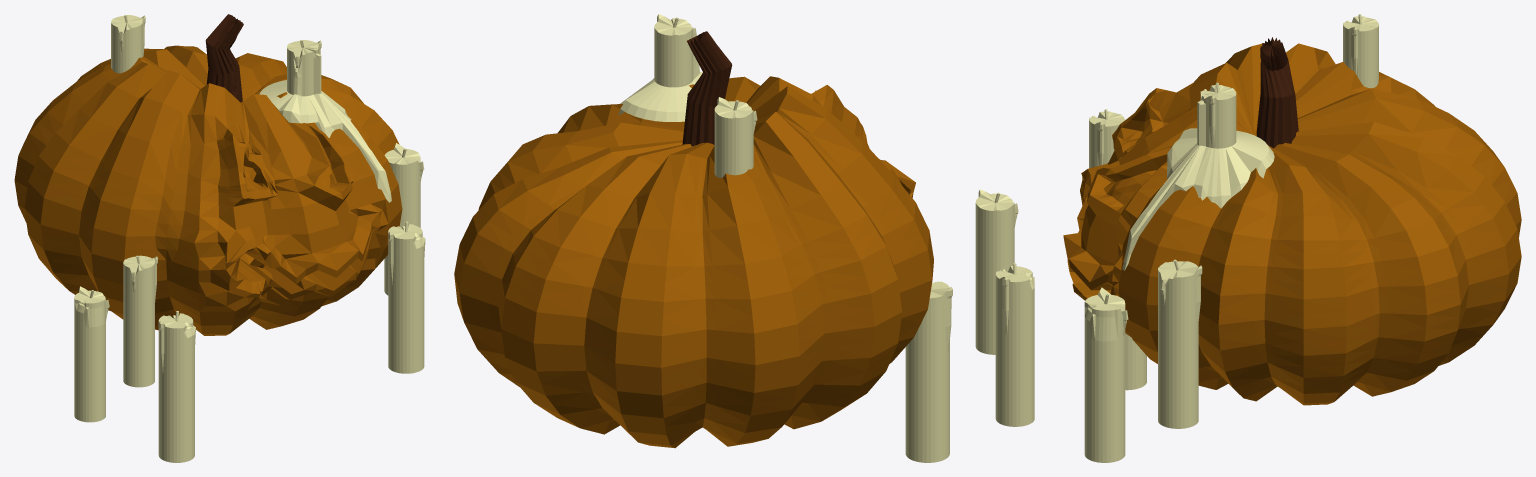
The model's file is CalabazaSpoki.dae.
The picture shows the model from 3 angles, left to right: view 1: azimuth 30°, elevation 25°; view 2: azimuth 150°, elevation 25°; view 3: azimuth 270°, elevation 25°; orthographic projection. The views are drawn at different scales.
Visible parts, largest first — view 1: Esfera, Cilindro.005, Cilindro.003, Cilindro.007, Cilindro.001, Cilindro.002, Cilindro.004, Cilindro, Cilindro.006; view 2: Esfera, Cilindro.005, Cilindro.002, Cilindro.007, Cilindro.001, Cilindro, Cilindro.006; view 3: Esfera, Cilindro.007, Cilindro.003, Cilindro.004, Cilindro, Cilindro.006, Cilindro.001, Cilindro.005.
Boxes of the visible parts, box(x1,y1,x2,y2) form: Esfera: box(14, 45, 402, 335); Cilindro.005: box(158, 311, 195, 462); Cilindro.003: box(388, 221, 425, 373); Cilindro.007: box(259, 40, 391, 202); Cilindro.001: box(123, 255, 157, 387); Cilindro.002: box(74, 286, 109, 422); Cilindro.004: box(384, 143, 424, 295); Cilindro: box(205, 14, 243, 102); Cilindro.006: box(111, 15, 145, 73); Esfera: box(454, 76, 933, 448); Cilindro.005: box(905, 281, 952, 462); Cilindro.002: box(995, 263, 1034, 426); Cilindro.007: box(618, 14, 702, 121); Cilindro.001: box(975, 189, 1018, 354); Cilindro: box(682, 31, 732, 146); Cilindro.006: box(714, 97, 757, 177); Esfera: box(1063, 43, 1521, 405); Cilindro.007: box(1122, 82, 1274, 270); Cilindro.003: box(1084, 287, 1128, 462); Cilindro.004: box(1158, 259, 1202, 428); Cilindro: box(1256, 37, 1298, 148); Cilindro.006: box(1343, 14, 1378, 88); Cilindro.001: box(1089, 109, 1124, 168); Cilindro.005: box(1125, 333, 1146, 390).
Size of the model in its own units: 3.62 by 3.43 by 3.38.
